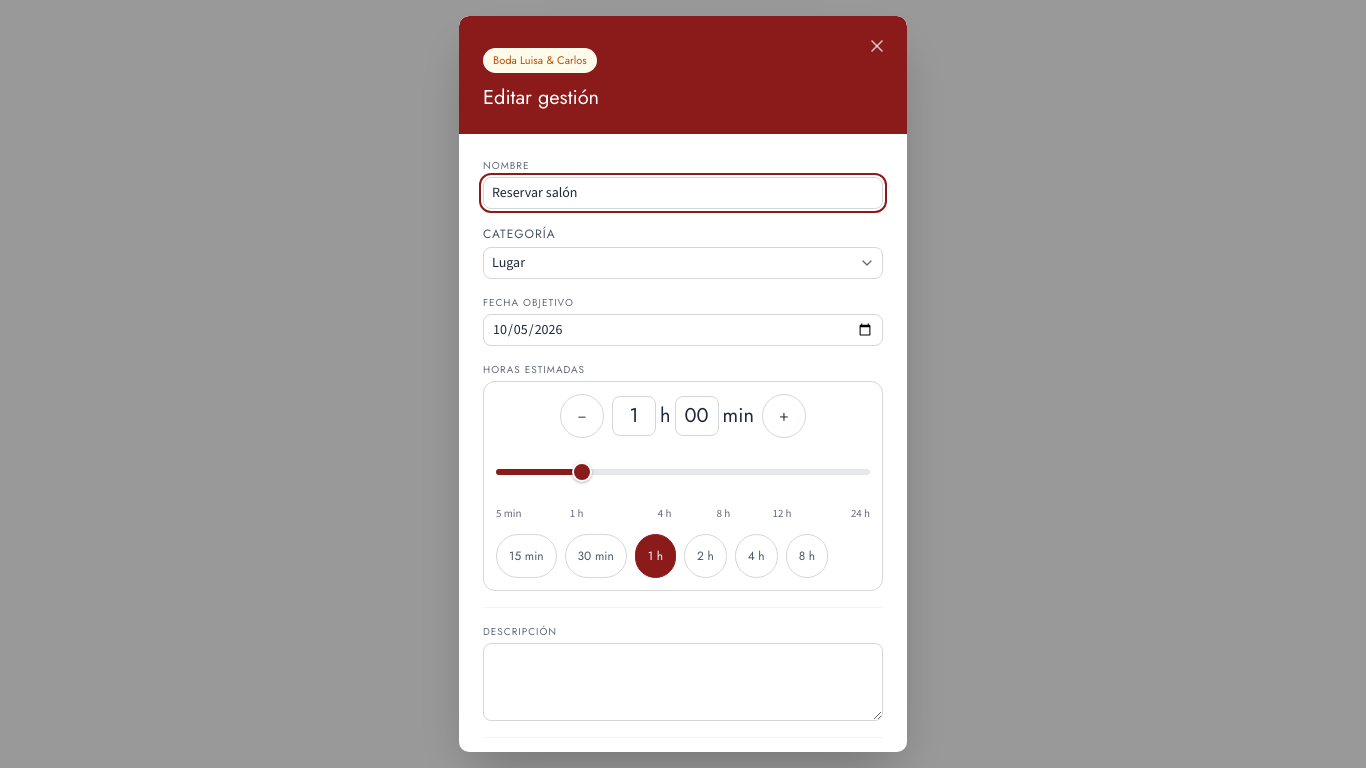
SubtaskFormModal › editar la duración a un valor que supera el límite diario abre el wizard de conflicto en vez de guardar (C3)
This screenshot has width=1366, height=768.
Check: the dropdown labelled "Categoría" is enabled, box [483,246,883,278]
Click the button "2 h" at point(705, 556), box [684,534,727,578]
(page scrolled)
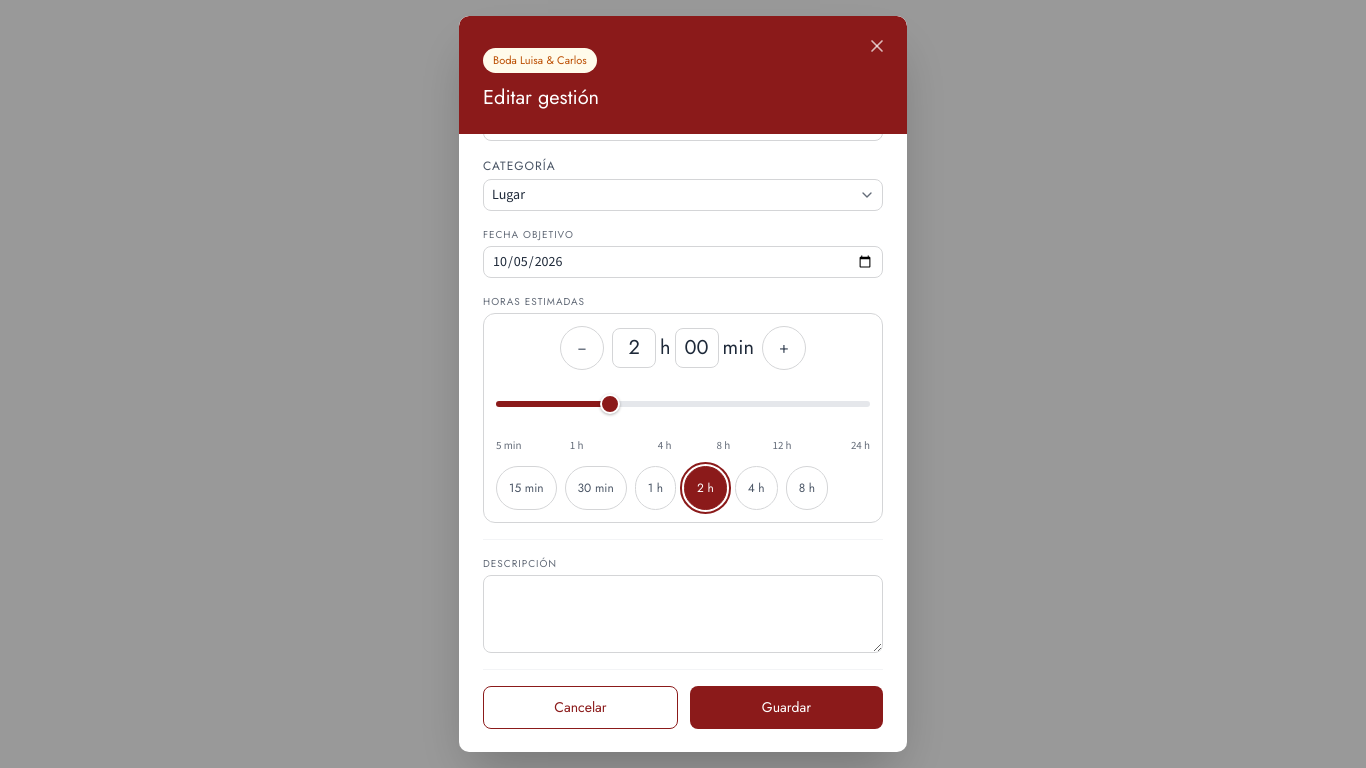
Click the button "Guardar" at point(786, 707), box [690,686,883,729]
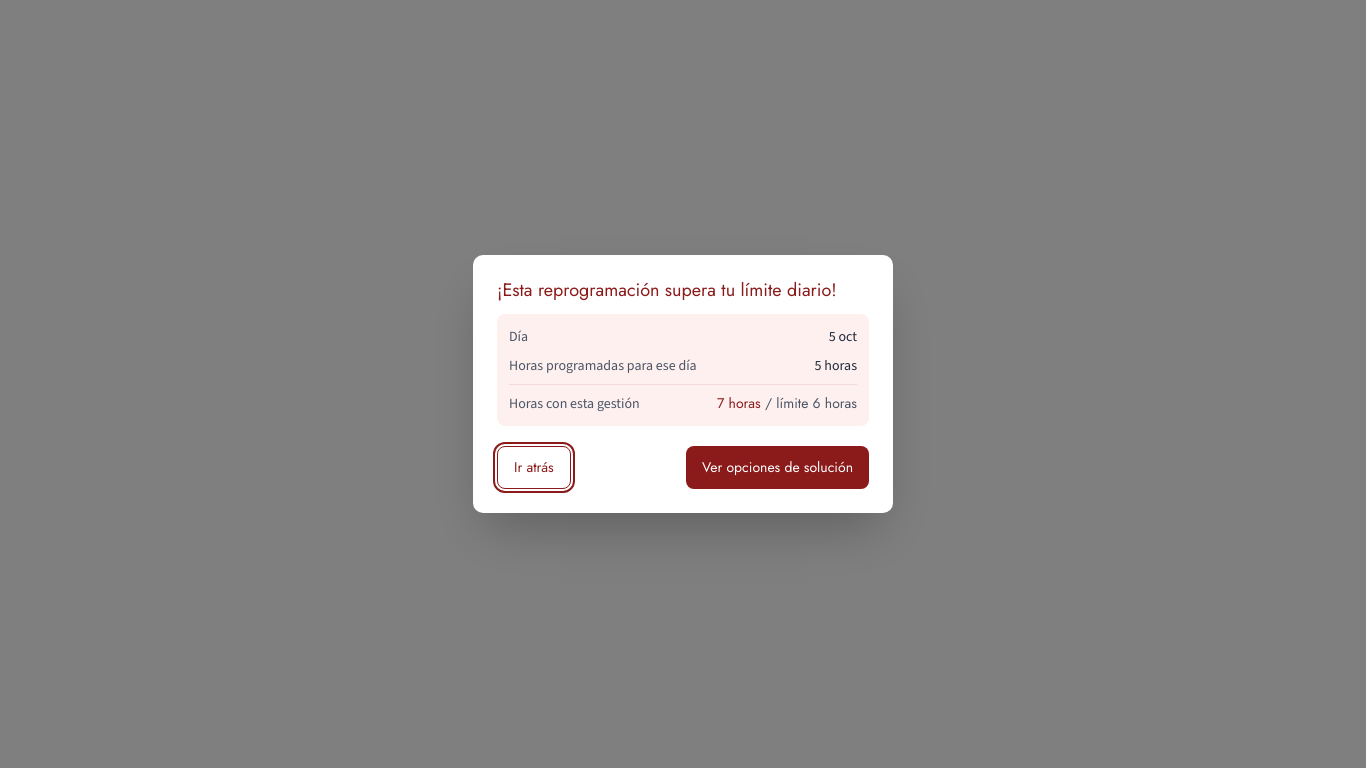
Check: the heading "¡Esta reprogramación supera tu límite diario!" is shown, box [497,279,869,302]
